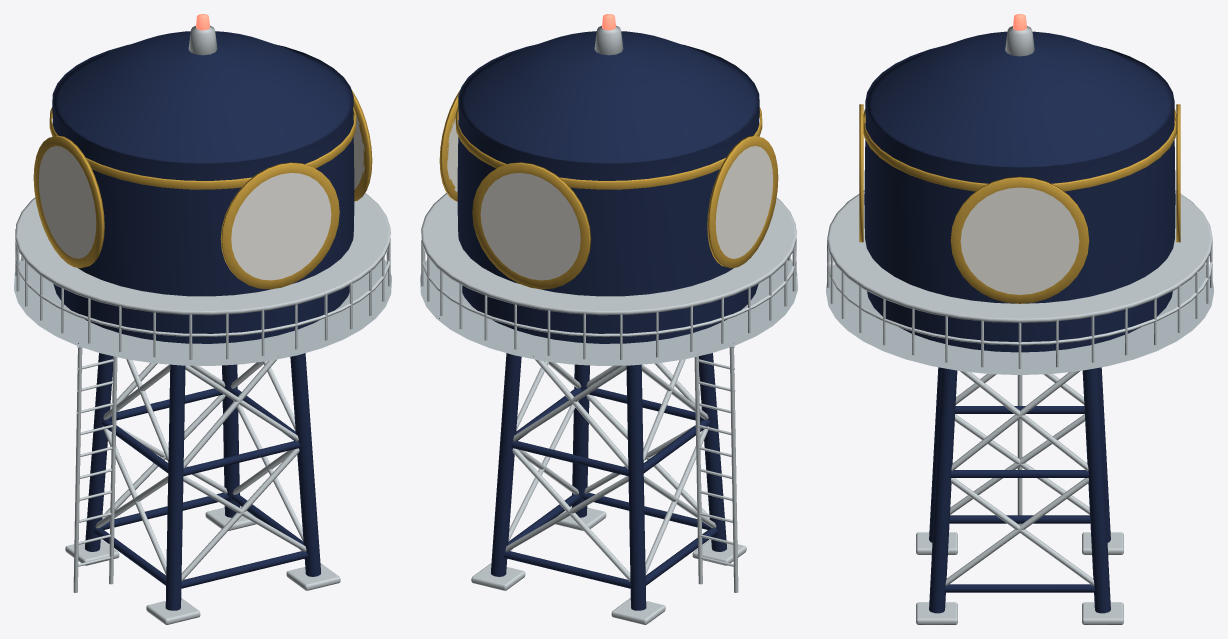
File: RedeWaterTower.fbx
3 views of the same model, side by side, from view 1: azimuth 30°, elevation 25°; view 2: azimuth 150°, elevation 25°; view 3: azimuth 270°, elevation 25° (orthographic). The views are drawn at different scales.
Parts seen in each view (by area): view 1: RedeWaterTower_Body.003; view 2: RedeWaterTower_Body.003; view 3: RedeWaterTower_Body.003.
Part boxes in pixels (box(x1,y1,x2,y2)): RedeWaterTower_Body.003: box(14, 14, 391, 624); RedeWaterTower_Body.003: box(420, 14, 797, 624); RedeWaterTower_Body.003: box(826, 14, 1213, 624).
Size of the model in its own units: 3.14 by 5.07 by 3.14.
